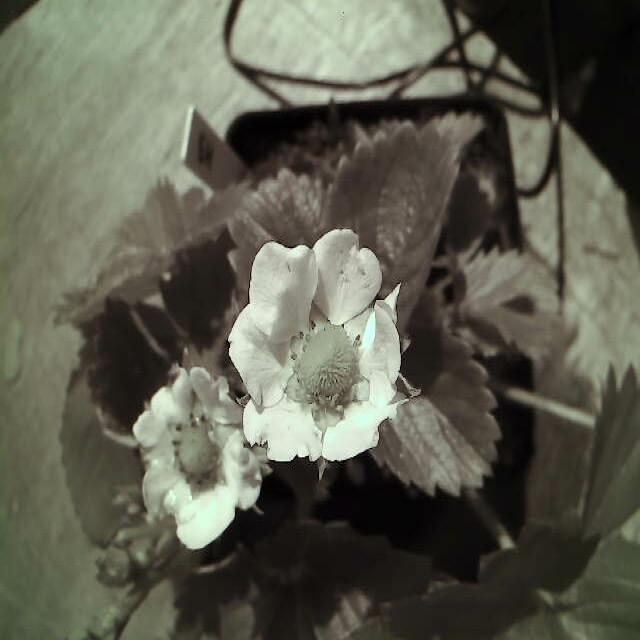flower: (227, 224, 430, 476), (124, 366, 273, 554)
